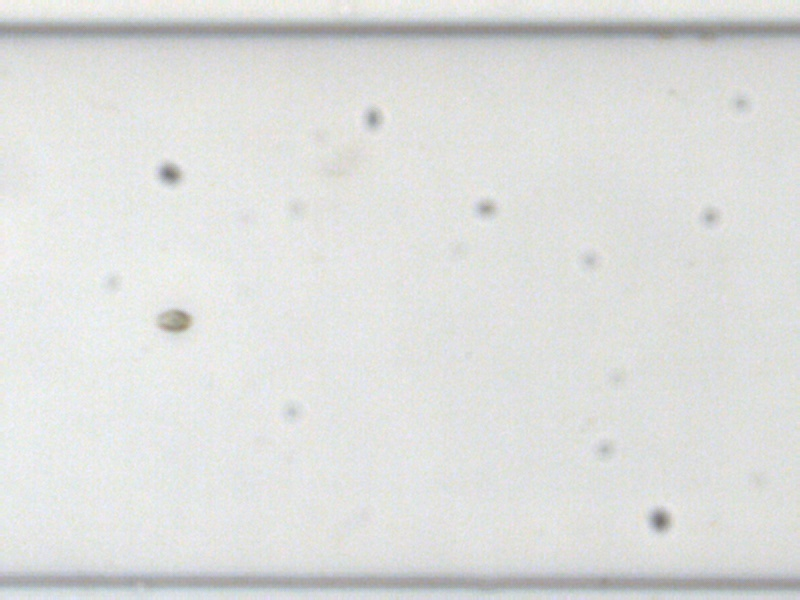Dunaliella salina: (152, 306, 193, 332)
